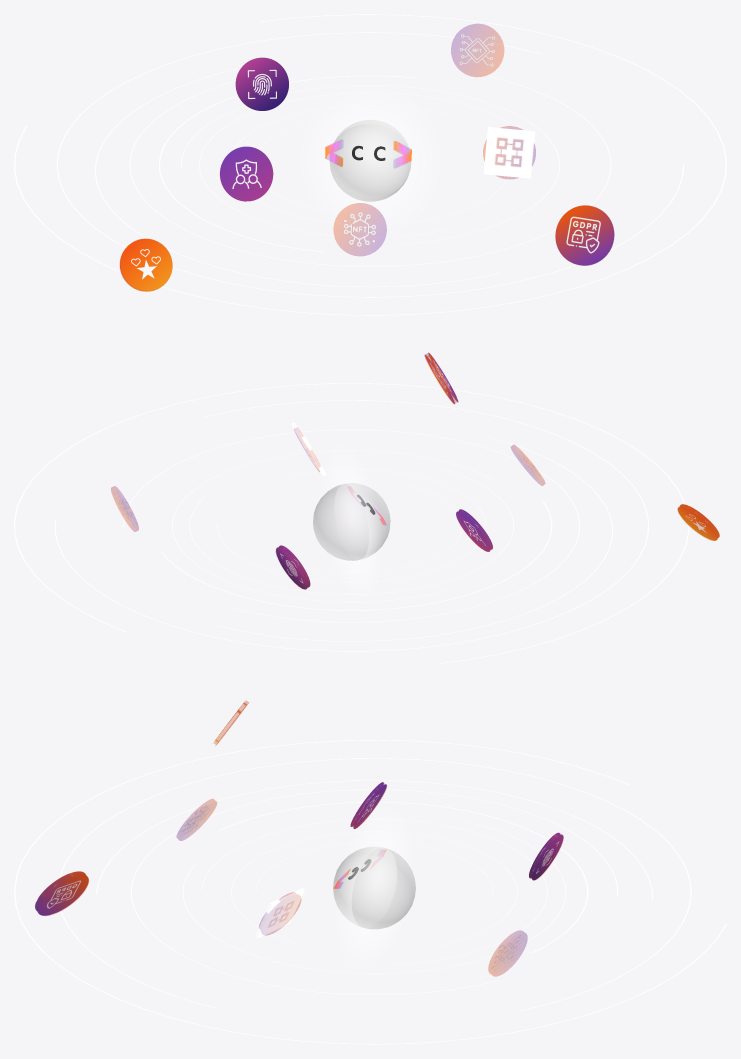
File: ccl hero with custome property.glb
3 views of the same model, one above another, from view 1: azimuth 30°, elevation 25°; view 2: azimuth 150°, elevation 25°; view 3: azimuth 270°, elevation 25° (orthographic). The views are drawn at different scales.
Parts seen in each view (by area): view 1: pngtree-black-radial-gradient-png-image_2484801, Sphere.001, dao.008, dao.001, dao.002, dao.005, dao.004, dao.006, dao.007, Circle.008, Circle.007, Circle.006 (+5 smaller); view 2: pngtree-black-radial-gradient-png-image_2484801, Sphere.001, Circle.008, Circle.007, Circle.006, dao.005, dao.007, dao.002, Circle.011, Circle.010, Circle.005; view 3: pngtree-black-radial-gradient-png-image_2484801, Sphere.001, Circle.008, Circle.007, dao.008, dao.001, dao.006, Circle.006, dao.005, Circle.011, dao.004, dao.002 (+2 smaller).
Boxes of the visible parts, x1,y1,x2,y2 form: pngtree-black-radial-gradient-png-image_2484801: [308, 93, 432, 226]; Sphere.001: [330, 120, 410, 201]; dao.008: [555, 205, 614, 265]; dao.001: [483, 126, 535, 178]; dao.002: [220, 146, 273, 201]; dao.005: [235, 57, 288, 110]; dao.004: [333, 203, 386, 255]; dao.006: [451, 24, 503, 76]; dao.007: [120, 238, 172, 291]; Circle.008: [14, 14, 726, 315]; Circle.007: [56, 32, 684, 297]; Circle.006: [129, 76, 611, 266]; pngtree-black-radial-gradient-png-image_2484801: [325, 454, 377, 589]; Sphere.001: [313, 483, 390, 560]; Circle.008: [14, 383, 689, 663]; Circle.007: [54, 400, 648, 651]; Circle.006: [123, 429, 580, 622]; dao.005: [276, 545, 310, 589]; dao.007: [677, 504, 719, 540]; dao.002: [456, 509, 492, 551]; Circle.011: [217, 437, 612, 641]; Circle.010: [172, 450, 492, 602]; Circle.005: [161, 501, 552, 610]; pngtree-black-radial-gradient-png-image_2484801: [340, 816, 408, 959]; Sphere.001: [333, 847, 415, 928]; Circle.008: [14, 740, 726, 1044]; Circle.007: [59, 758, 691, 1011]; dao.008: [35, 871, 88, 915]; dao.001: [254, 888, 304, 938]; dao.006: [488, 930, 527, 976]; Circle.006: [131, 789, 617, 994]; dao.005: [529, 832, 563, 880]; Circle.011: [96, 780, 652, 900]; dao.004: [176, 799, 216, 840]; dao.002: [350, 782, 386, 828].
Size of the model in its own units: 9.92 by 2.41 by 9.62.
Materials: 13 (10 with a texture image).
